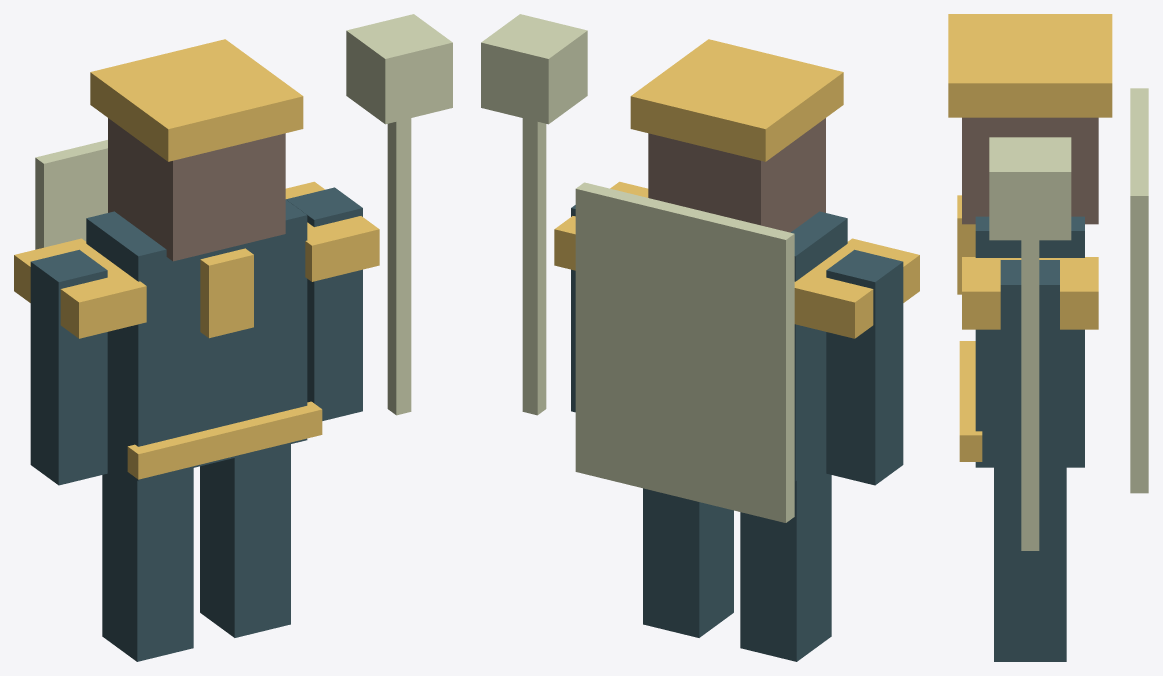
Rendered from 18_elo_voxmere_courier_from.glb.
3 views of the same model, side by side, from view 1: azimuth 30°, elevation 25°; view 2: azimuth 150°, elevation 25°; view 3: azimuth 270°, elevation 25° (orthographic). The views are drawn at different scales.
Visible parts, largest first — view 1: Elo Voxmere, Courier from; view 2: Elo Voxmere, Courier from; view 3: Elo Voxmere, Courier from.
Part boxes in pixels (left/top/right/bottom): Elo Voxmere, Courier from: left=14, top=14, right=452, bottom=661; Elo Voxmere, Courier from: left=481, top=14, right=919, bottom=661; Elo Voxmere, Courier from: left=948, top=14, right=1148, bottom=661.
Size of the model in its own units: 1.14 by 1.53 by 0.4836.
